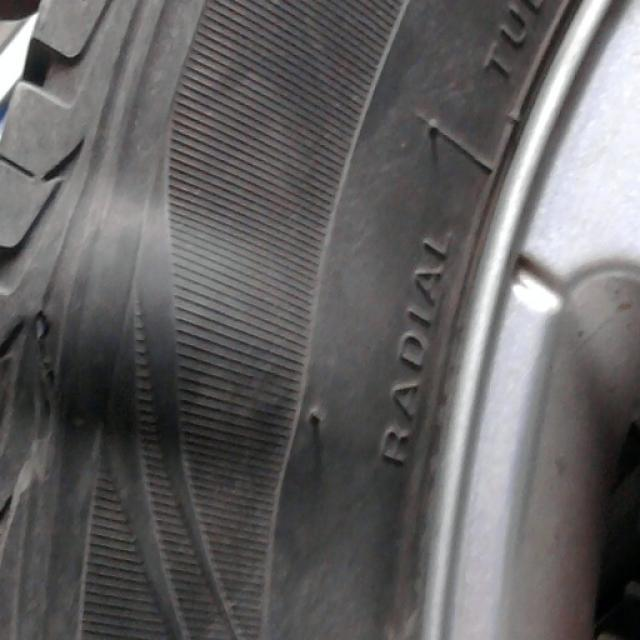Bulge: (24, 194, 353, 456)
